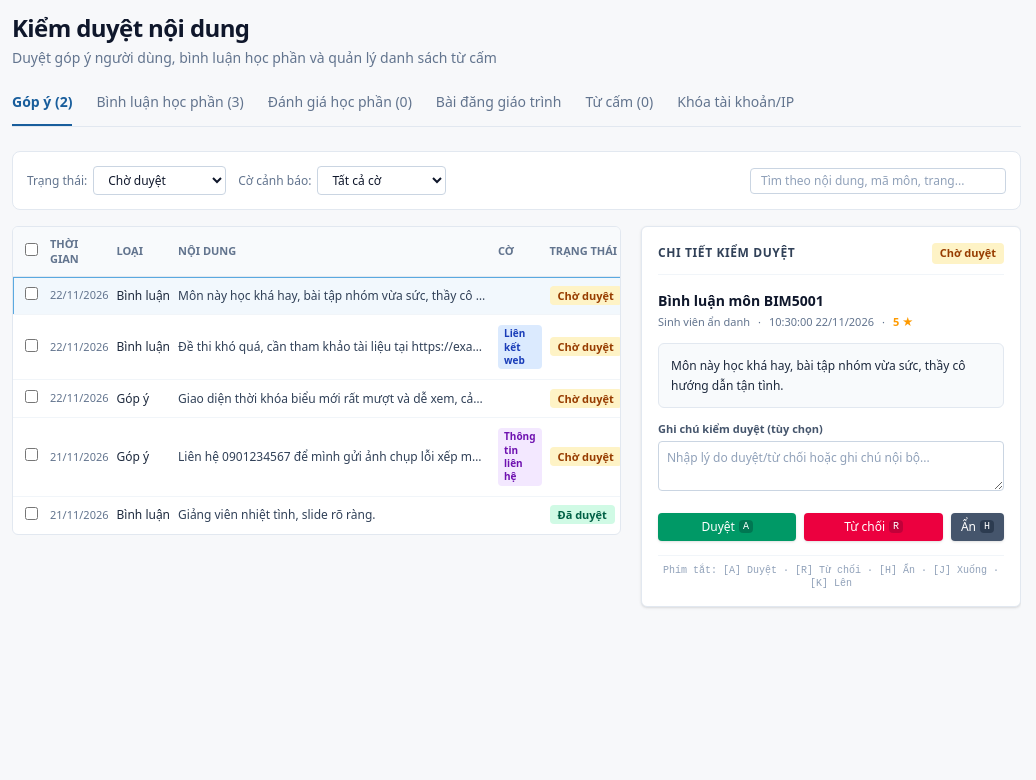
Scenario: Brief A3: Kiểm duyệt nội dung & Đánh giá bình luận học phần › 2. Trang Quản trị kiểm duyệt (/admin/moderation) › tab 'Bài đăng giáo trình' hiển thị thông báo chờ giai đoạn A7
This screenshot has width=1036, height=780.
Click the button "Bài đăng giáo trình".
click(499, 109)  # box [436,92,561,126]
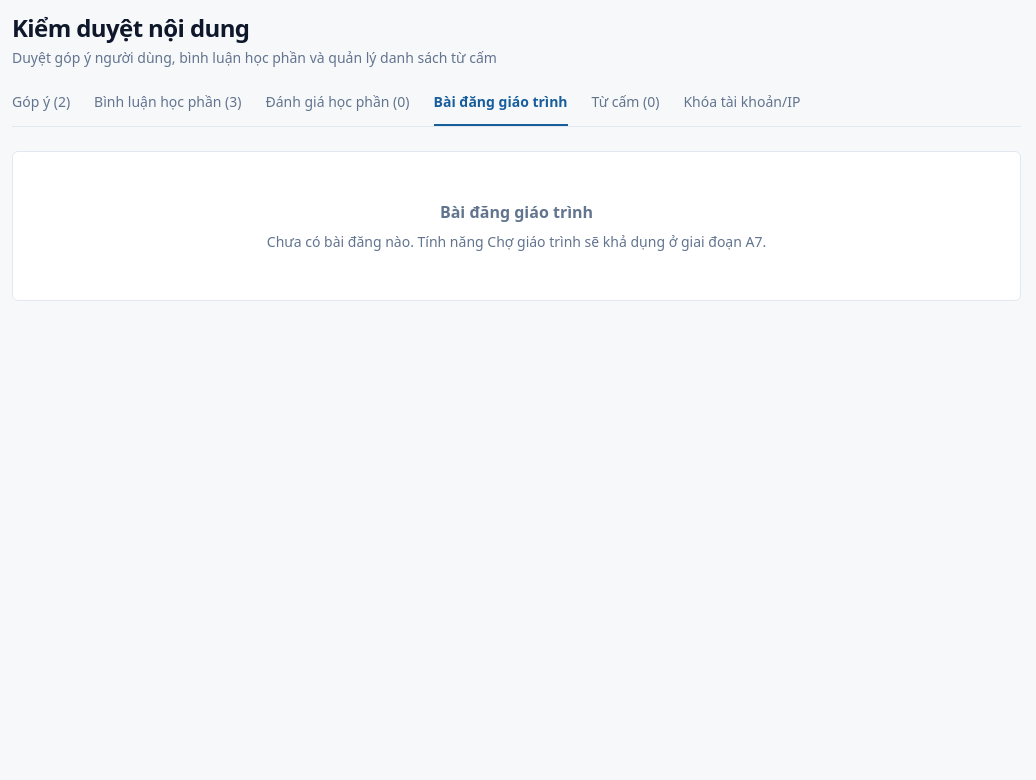
Check: the text "Chợ giáo trình sẽ khả dụng ở giai đoạn A7" is shown, box [267,232,766,251]
